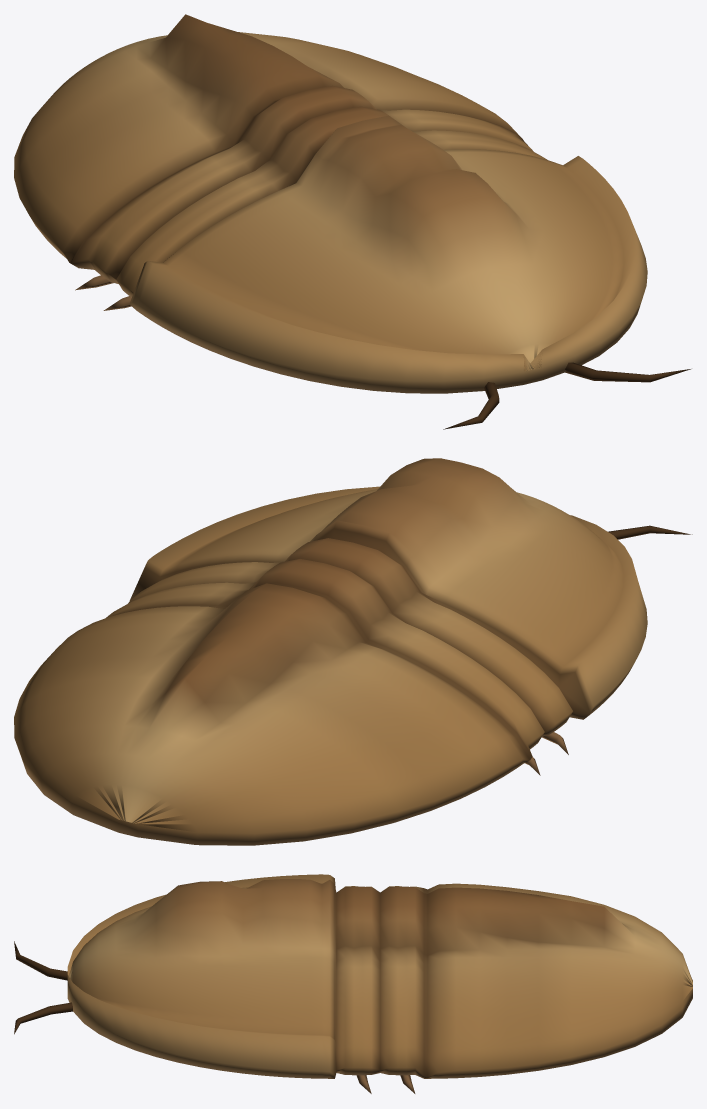
The model's file is Agnostus.fbx.
3 views of the same model, one above another, from view 1: azimuth 30°, elevation 25°; view 2: azimuth 150°, elevation 25°; view 3: azimuth 270°, elevation 25° (orthographic). The views are drawn at different scales.
Visible parts, largest first — view 1: Agnostus; view 2: Agnostus; view 3: Agnostus.
Boxes of the visible parts, left/top/right/bottom form: Agnostus: left=14, top=14, right=690, bottom=429; Agnostus: left=14, top=458, right=692, bottom=845; Agnostus: left=14, top=874, right=692, bottom=1093.
Size of the model in its own units: 0.93 by 0.2945 by 1.52.
